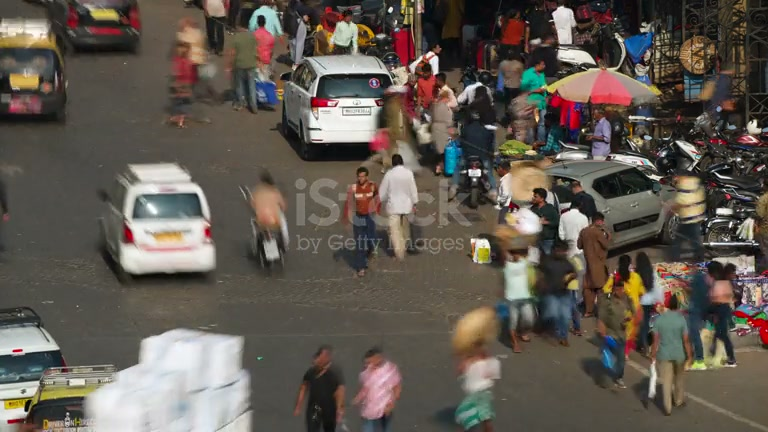car: (96, 162, 217, 280), (279, 54, 394, 161), (545, 156, 665, 248), (0, 306, 69, 428), (0, 2, 68, 121), (0, 39, 69, 121), (47, 1, 142, 55)
pedestrian: (647, 293, 693, 416), (594, 275, 635, 391), (293, 345, 346, 432), (351, 345, 403, 432), (378, 153, 419, 260), (538, 240, 579, 347), (454, 341, 501, 432), (250, 169, 290, 271), (343, 166, 380, 265), (705, 261, 739, 368), (578, 211, 611, 321), (226, 22, 260, 112), (587, 106, 612, 161)
